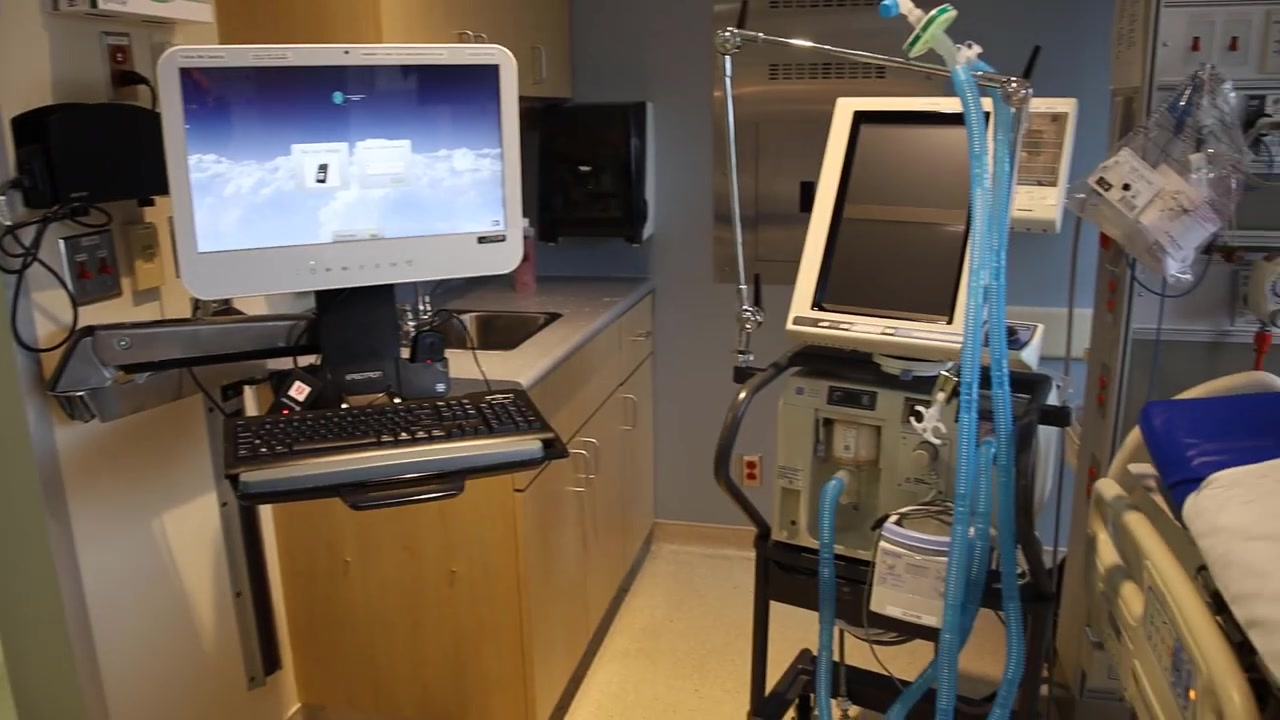bedrail: (1084, 477, 1265, 720)
breathing_tube: (817, 1, 1033, 720)
computer: (158, 44, 518, 274)
counter: (238, 275, 656, 720)
countertop: (246, 275, 656, 385)
dispenser: (527, 98, 648, 246)
faucet: (396, 280, 444, 334)
handle: (566, 444, 595, 493), (576, 430, 602, 482), (619, 391, 639, 432), (530, 40, 547, 83), (455, 30, 489, 44), (627, 329, 652, 343)
hospital_bed: (1083, 369, 1280, 720)
keyboard: (224, 389, 558, 479)
sink: (415, 310, 564, 353)
ventilator: (768, 96, 1084, 637)
